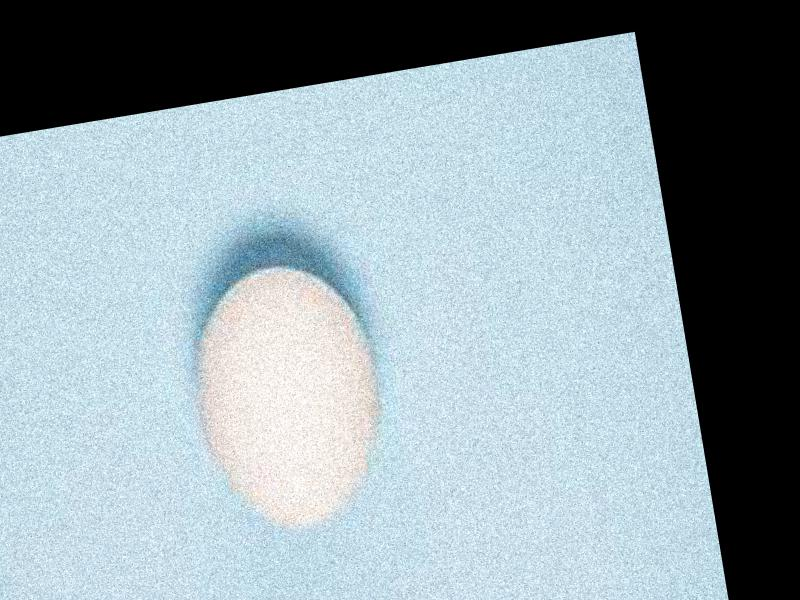Eggs: (178, 253, 396, 544)
